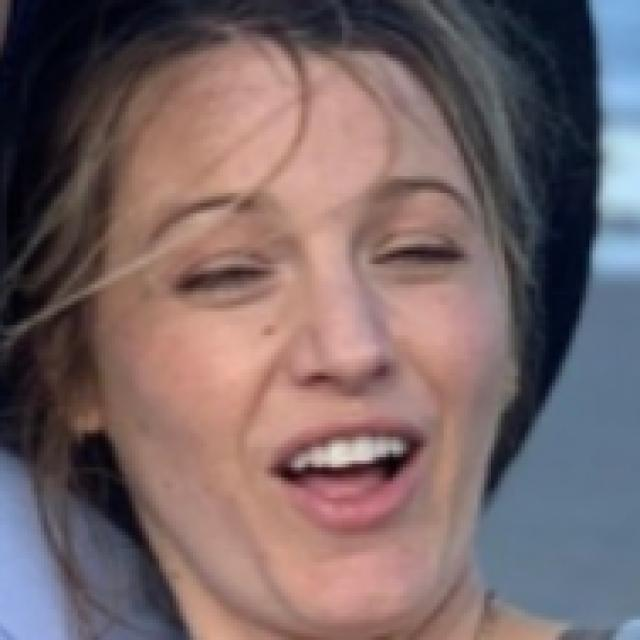close: (143, 183, 294, 322), (362, 161, 492, 289)
